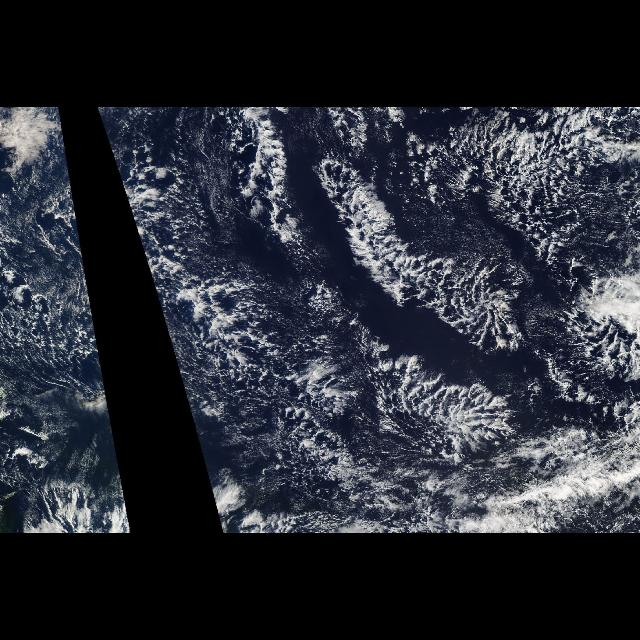Fish: (232, 114, 534, 452)
Gravel: (486, 109, 618, 225)
